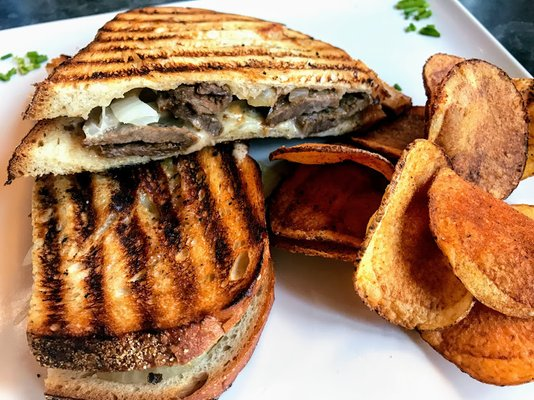soup: (2, 6, 460, 394), (10, 141, 277, 398), (352, 137, 534, 385)
